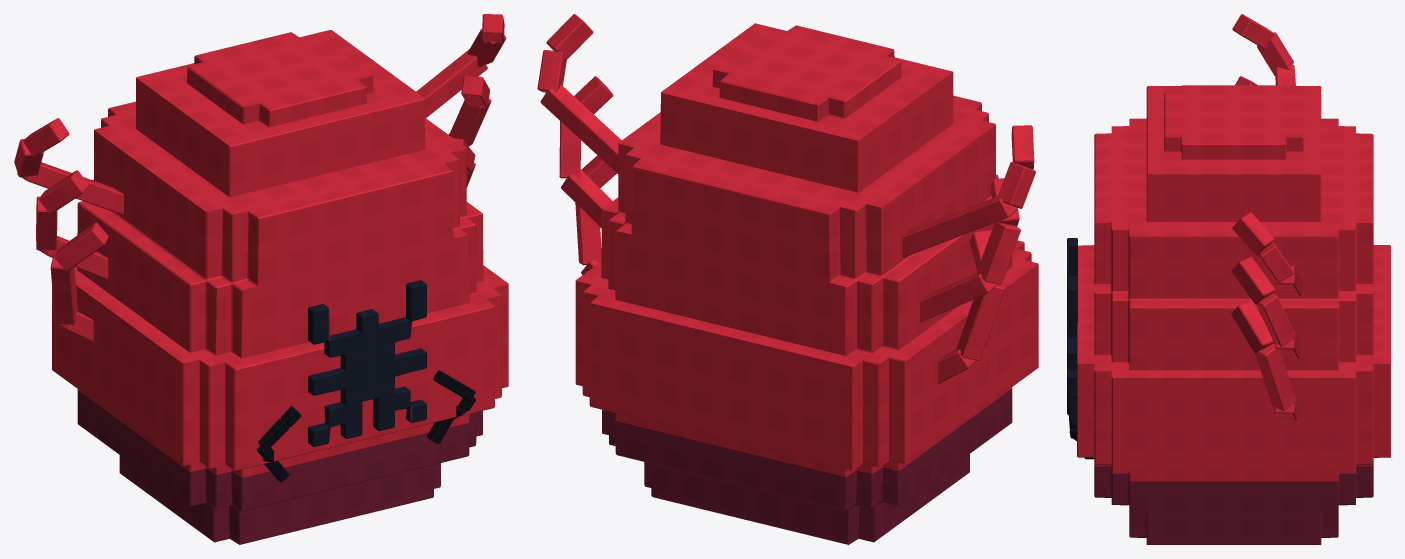
File: Carnage_Egg.fbx
The picture shows the model from 3 angles, left to right: view 1: azimuth 30°, elevation 25°; view 2: azimuth 150°, elevation 25°; view 3: azimuth 270°, elevation 25°; orthographic projection. The views are drawn at different scales.
Visible parts, largest first — view 1: Carnage_Egg; view 2: Carnage_Egg; view 3: Carnage_Egg.
Boxes of the visible parts, left/top/right/bottom form: Carnage_Egg: left=14, top=14, right=508, bottom=544; Carnage_Egg: left=537, top=14, right=1038, bottom=544; Carnage_Egg: left=1067, top=14, right=1390, bottom=544.
Size of the model in its own units: 473 by 384 by 297.
4 materials, 4 textured.
